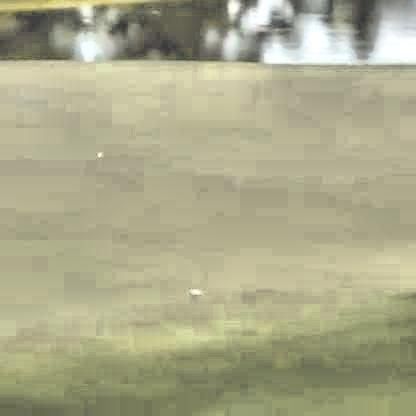golfball: (96, 147, 101, 154)
